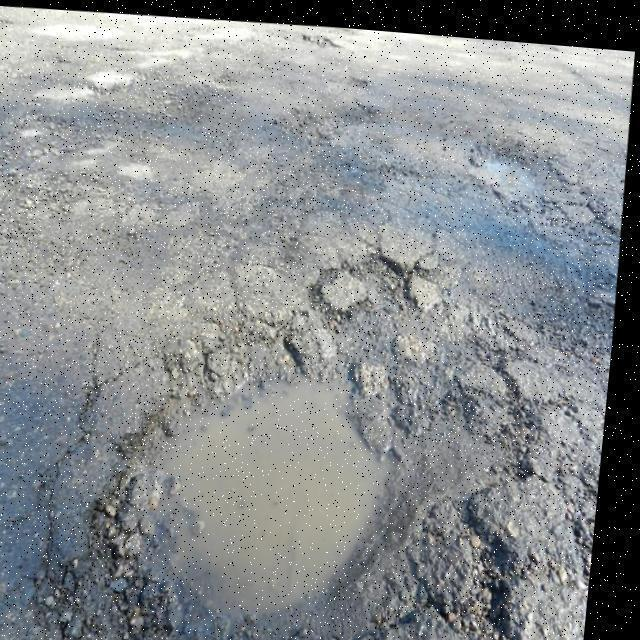Pothole: (34, 252, 546, 640), (464, 137, 572, 208)
